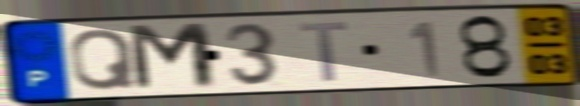1: (408, 19, 442, 78)
3: (223, 20, 284, 89)
8: (457, 13, 514, 80)
M: (123, 20, 222, 94)
Q: (67, 26, 140, 93)
T: (295, 20, 353, 85)
